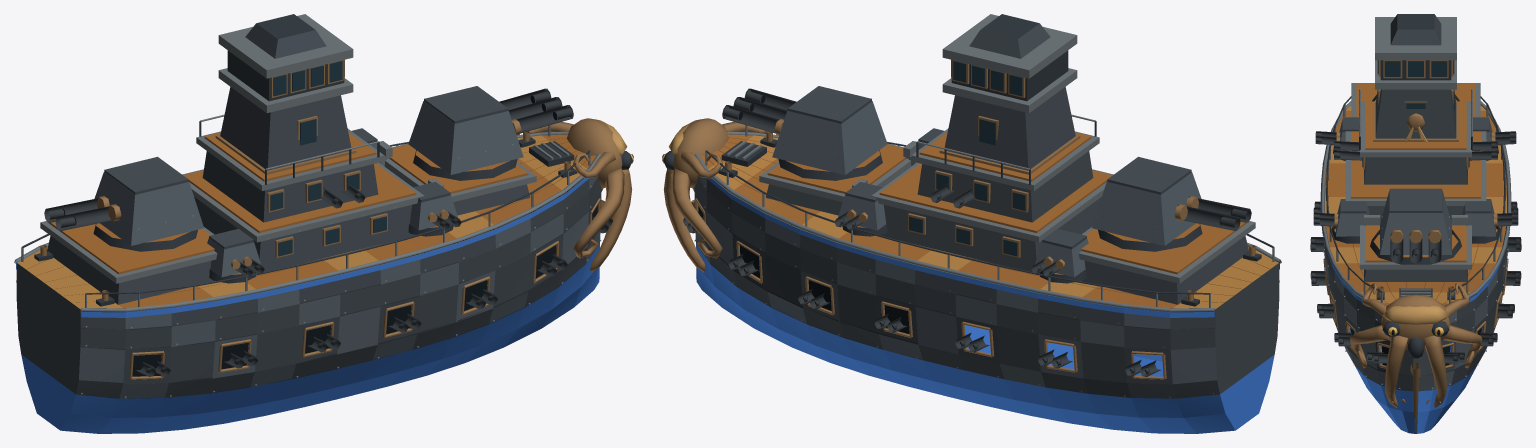
3 renders of one model, left to right at view 1: azimuth 30°, elevation 25°; view 2: azimuth 150°, elevation 25°; view 3: azimuth 270°, elevation 25°, orthographic. The views are drawn at different scales.
Parts seen in each view (by area): view 1: 主宰者 · Kraken Fortress; view 2: 主宰者 · Kraken Fortress; view 3: 主宰者 · Kraken Fortress.
Part boxes in pixels (x1,y1,x2,y2): 主宰者 · Kraken Fortress: (14, 14, 633, 433); 主宰者 · Kraken Fortress: (662, 14, 1281, 433); 主宰者 · Kraken Fortress: (1310, 14, 1521, 433).
Size of the model in its own units: 2.55 by 1.55 by 0.9536.
